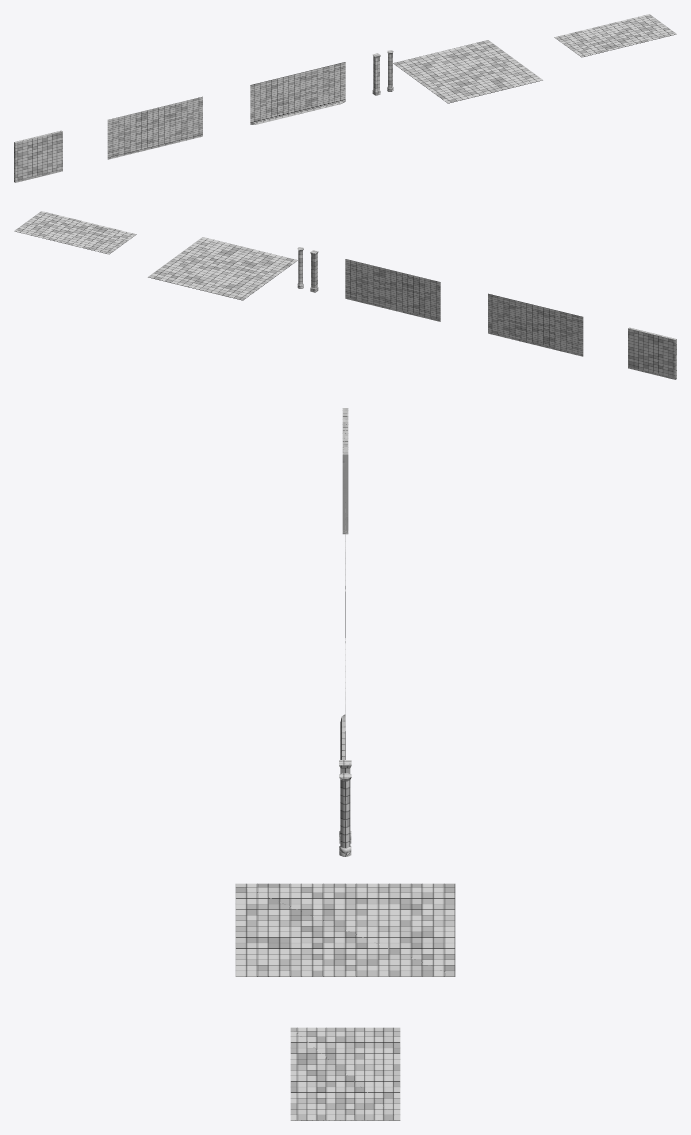
Rendered from WallTile.fbx.
3 renders of one model, top to bottom at view 1: azimuth 30°, elevation 25°; view 2: azimuth 150°, elevation 25°; view 3: azimuth 270°, elevation 25°, orthographic. The views are drawn at different scales.
Visible parts, largest first — view 1: TileFloor, TileWall_1, TileWall_2, TileFloorShort, TileshortWall, Tilepiller_1; view 2: TileFloor, TileWall_1, TileWall_2, TileFloorShort, TileshortWall, Tilepiller_1; view 3: TileFloor, TileFloorShort.
Part boxes in pixels (x1,y1,x2,y2): TileFloor: (393, 40, 542, 103); TileWall_1: (250, 62, 345, 124); TileWall_2: (107, 96, 202, 159); TileFloorShort: (554, 14, 676, 57); TileshortWall: (14, 130, 62, 182); Tilepiller_1: (372, 53, 380, 95); TileFloor: (148, 237, 297, 300); TileWall_1: (345, 259, 440, 321); TileWall_2: (488, 293, 583, 356); TileFloorShort: (14, 211, 136, 254); TileshortWall: (628, 327, 676, 379); Tilepiller_1: (310, 250, 318, 292); TileFloor: (235, 883, 455, 976); TileFloorShort: (290, 1027, 400, 1120).
Bounding box in the file's own units: 136 × 8.01 × 20.
